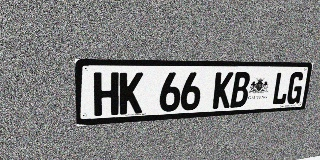6: (159, 72, 182, 112), (180, 72, 202, 111)
B: (230, 72, 251, 108)
G: (286, 72, 305, 104)
H: (94, 72, 119, 116)
K: (119, 72, 143, 115), (212, 72, 234, 109)
L: (271, 72, 291, 105)
